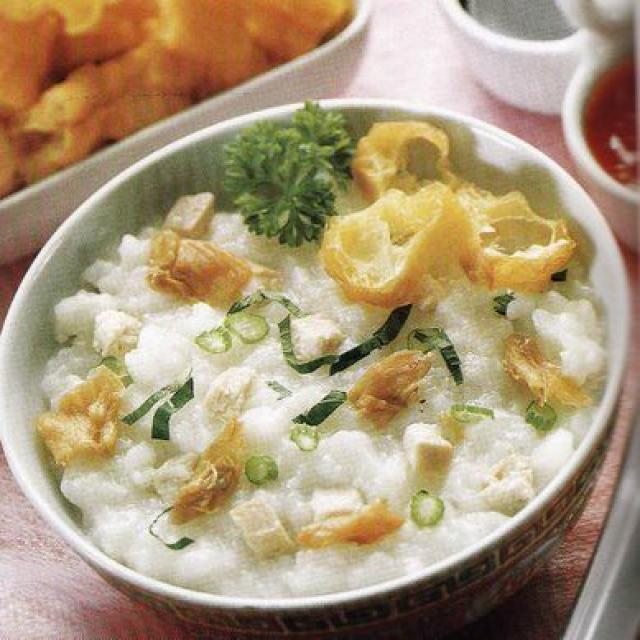bubur ayam: (44, 120, 606, 596)
mangkuk: (10, 95, 632, 636), (0, 0, 372, 270), (560, 18, 638, 255)
